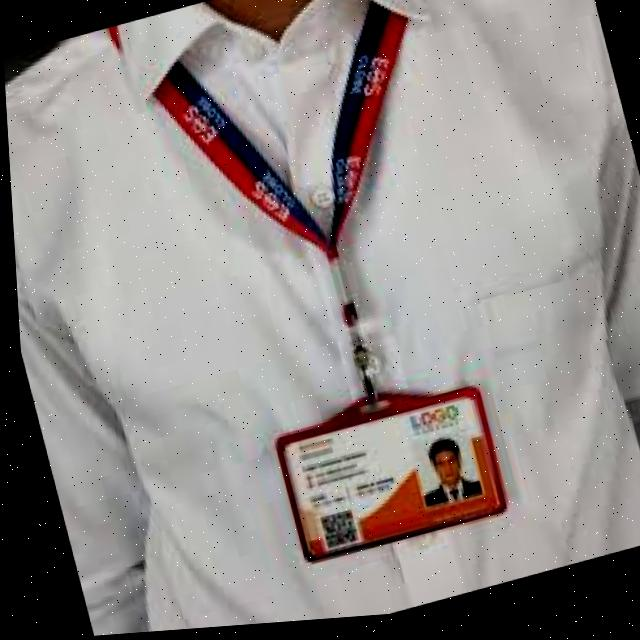id_card: (101, 0, 562, 609)
